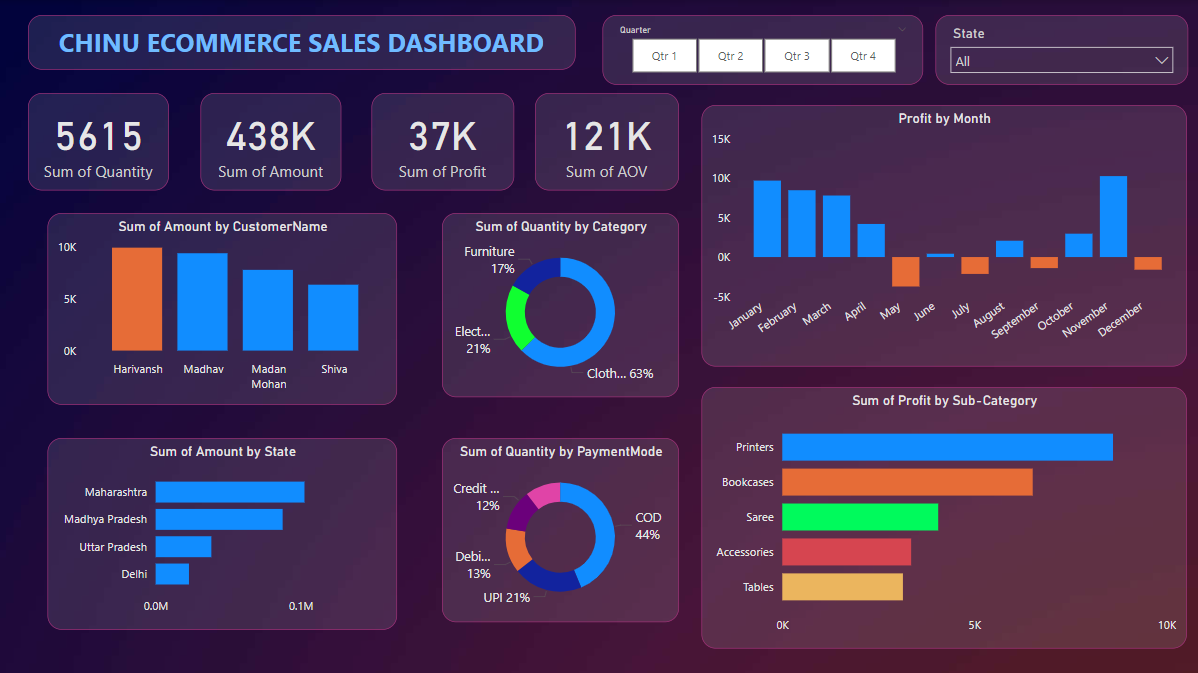

Layout of this report page (visuals, bound fields, positions):
{"tool":"powerbi","page":{"name":"Page 1","canvas":[1280,720],"ordinal":0},"visuals":[{"type":"columnChart","title":" Profit by Month","fields":{"Category":["Orders.Order Date.Variation.Date Hierarchy.Month"],"Y":["Details.Profit"]},"box":[746.8,111.3,514.5,277.4],"z":0},{"type":"barChart","fields":{"Category":["Details.Sub-Category"],"Y":["Details.Profit"]},"box":[746.8,409.7,514.5,277.4],"z":1000},{"type":"donutChart","fields":{"Category":["Details.Category"],"Y":["Details.Quantity"]},"box":[471,225.8,251.6,195.2],"z":2000},{"type":"donutChart","fields":{"Y":["Details.Quantity"],"Category":["Details.PaymentMode"]},"box":[471,464.5,251.6,195],"z":3000},{"type":"card","fields":{"Values":["Details.Amount"]},"box":[214.7,98.6,149.5,103.4],"z":4000},{"type":"card","fields":{"Values":["Details.Profit"]},"box":[396.1,98.6,151.1,103.4],"z":5000},{"type":"card","fields":{"Values":["Details.Quantity"]},"box":[31.8,98.6,149.5,103.4],"z":6000},{"type":"card","fields":{"Values":["Details.AOV"]},"box":[569.4,98.6,152.7,103.4],"z":7000},{"type":"barChart","fields":{"Category":["Orders.State"],"Y":["Details.Amount"]},"box":[53.2,464.5,371,203.2],"z":8000},{"type":"columnChart","fields":{"Category":["Orders.CustomerName"],"Y":["Details.Amount"]},"box":[53.2,225.8,371,203.2],"z":9000},{"type":"textbox","box":[32.3,16.1,580.6,58.1],"z":10000},{"type":"slicer","fields":{"Values":["Orders.Order Date.Variation.Date Hierarchy.Quarter"]},"box":[640.3,16.1,340.3,74.2],"z":11000},{"type":"slicer","fields":{"Values":["Orders.State"]},"box":[993.5,16.1,267.7,74.2],"z":12000}]}

Visuals, with their boxes in screenshot pixels (x1, y1, x2, y2), scaled from the page's 1280x720 canvas onto the 1198x673 screenshot:
" Profit by Month" columnChart: Rect(699, 104, 1180, 363)
barChart - Details.Sub-Category x Details.Profit: Rect(699, 383, 1180, 642)
donutChart - Details.Category x Details.Quantity: Rect(441, 211, 676, 394)
donutChart - Details.Quantity x Details.PaymentMode: Rect(441, 434, 676, 616)
card - Details.Amount: Rect(201, 92, 341, 189)
card - Details.Profit: Rect(371, 92, 512, 189)
card - Details.Quantity: Rect(30, 92, 170, 189)
card - Details.AOV: Rect(533, 92, 676, 189)
barChart - Orders.State x Details.Amount: Rect(50, 434, 397, 624)
columnChart - Orders.CustomerName x Details.Amount: Rect(50, 211, 397, 401)
textbox: Rect(30, 15, 574, 69)
slicer - Orders.Order Date.Variation.Date Hierarchy.Quarter: Rect(599, 15, 918, 84)
slicer - Orders.State: Rect(930, 15, 1180, 84)
